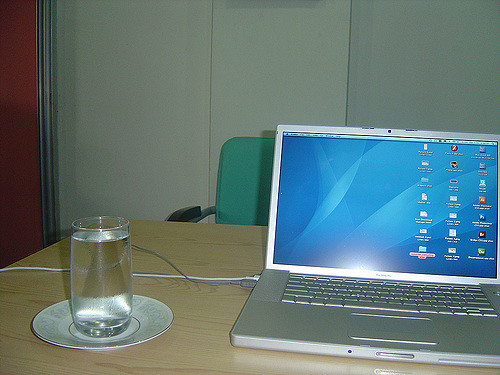glass of water: (71, 222, 131, 336)
